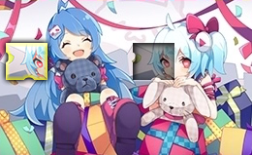gap: (132, 43, 175, 80)
